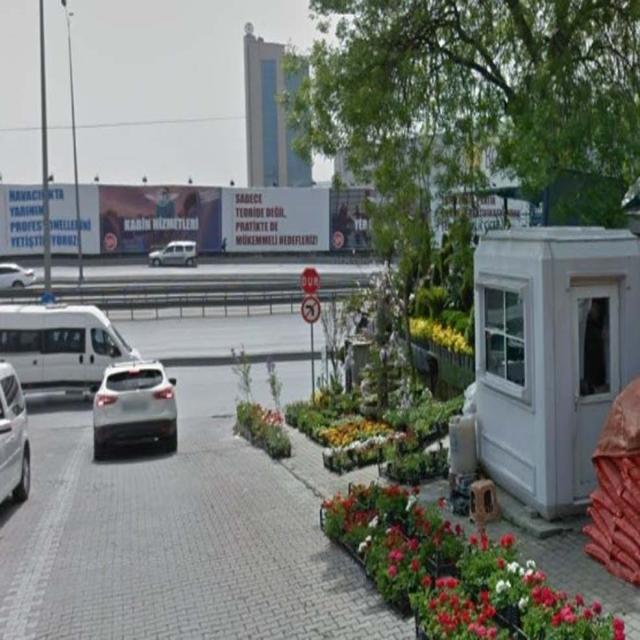dur: (301, 269, 320, 295)
soladonulmez: (301, 297, 321, 323)
